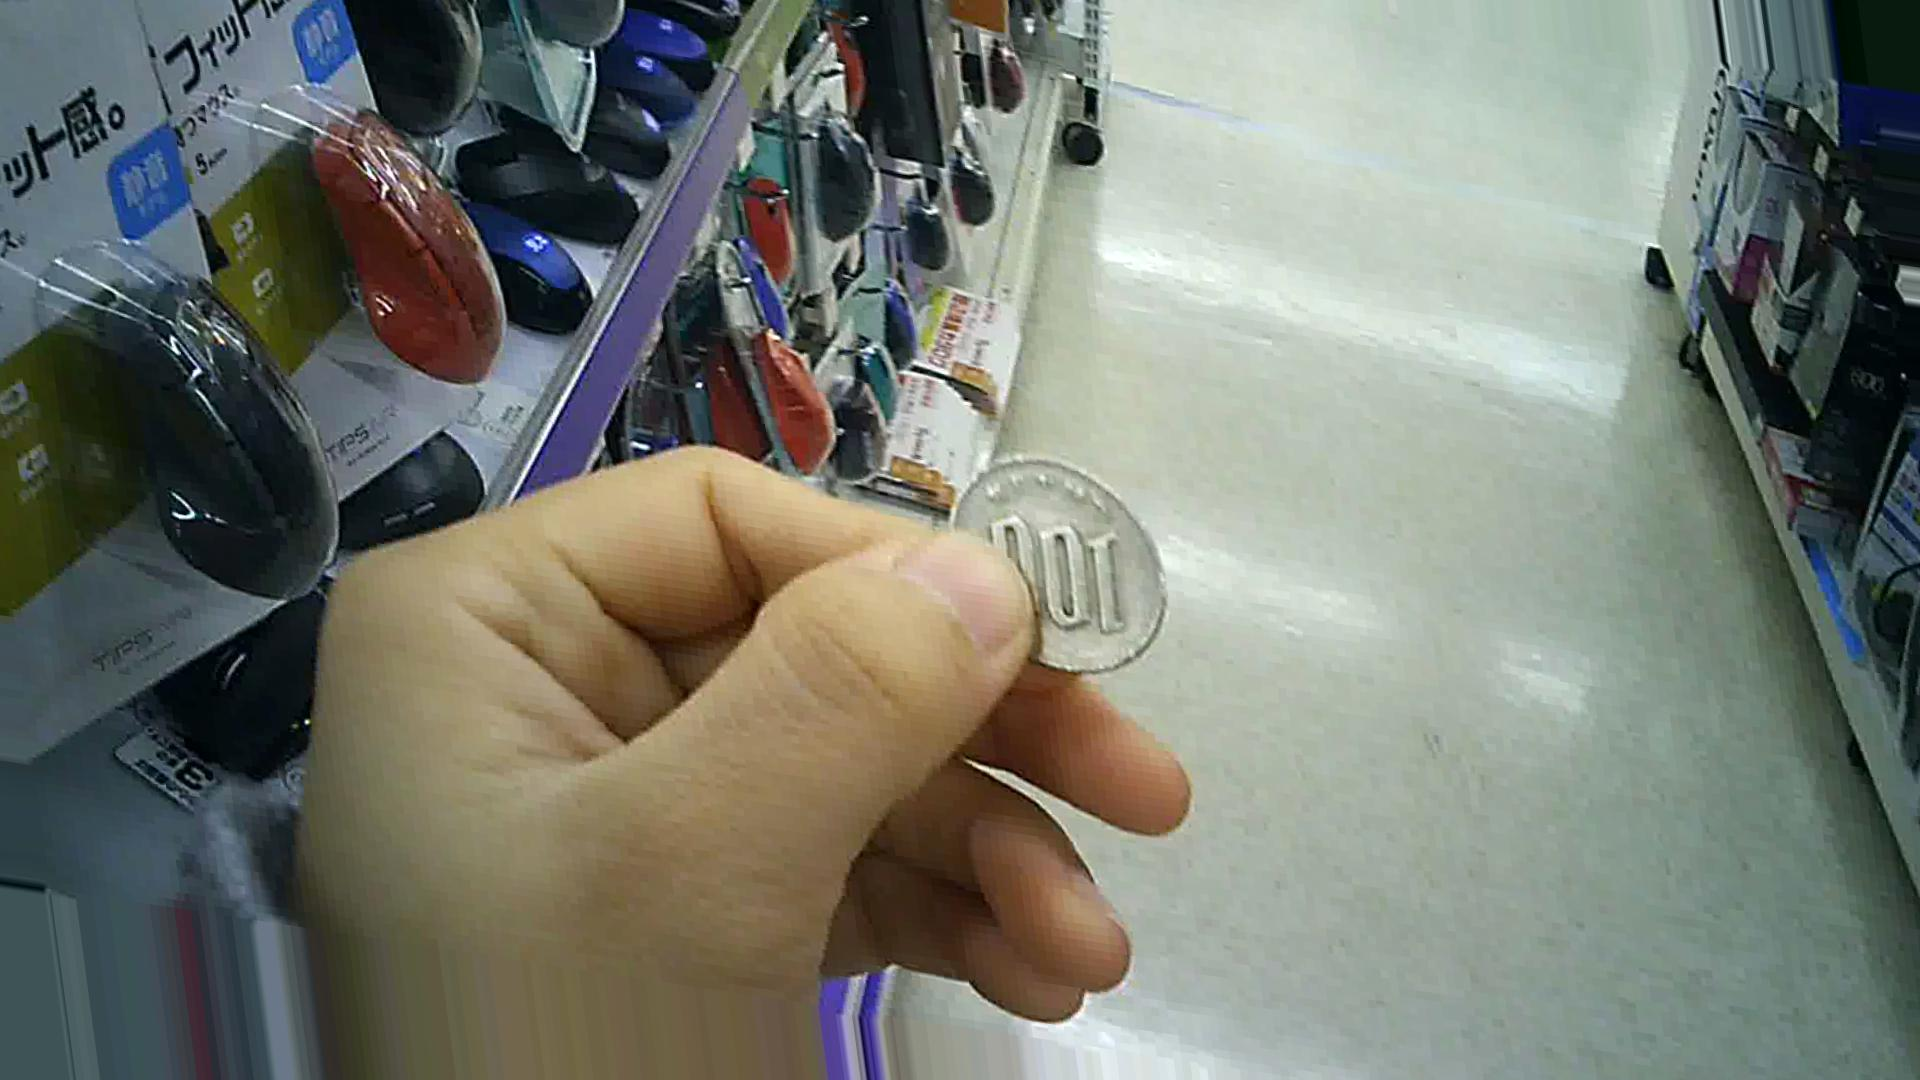100 Yen: (947, 454, 1179, 694)
